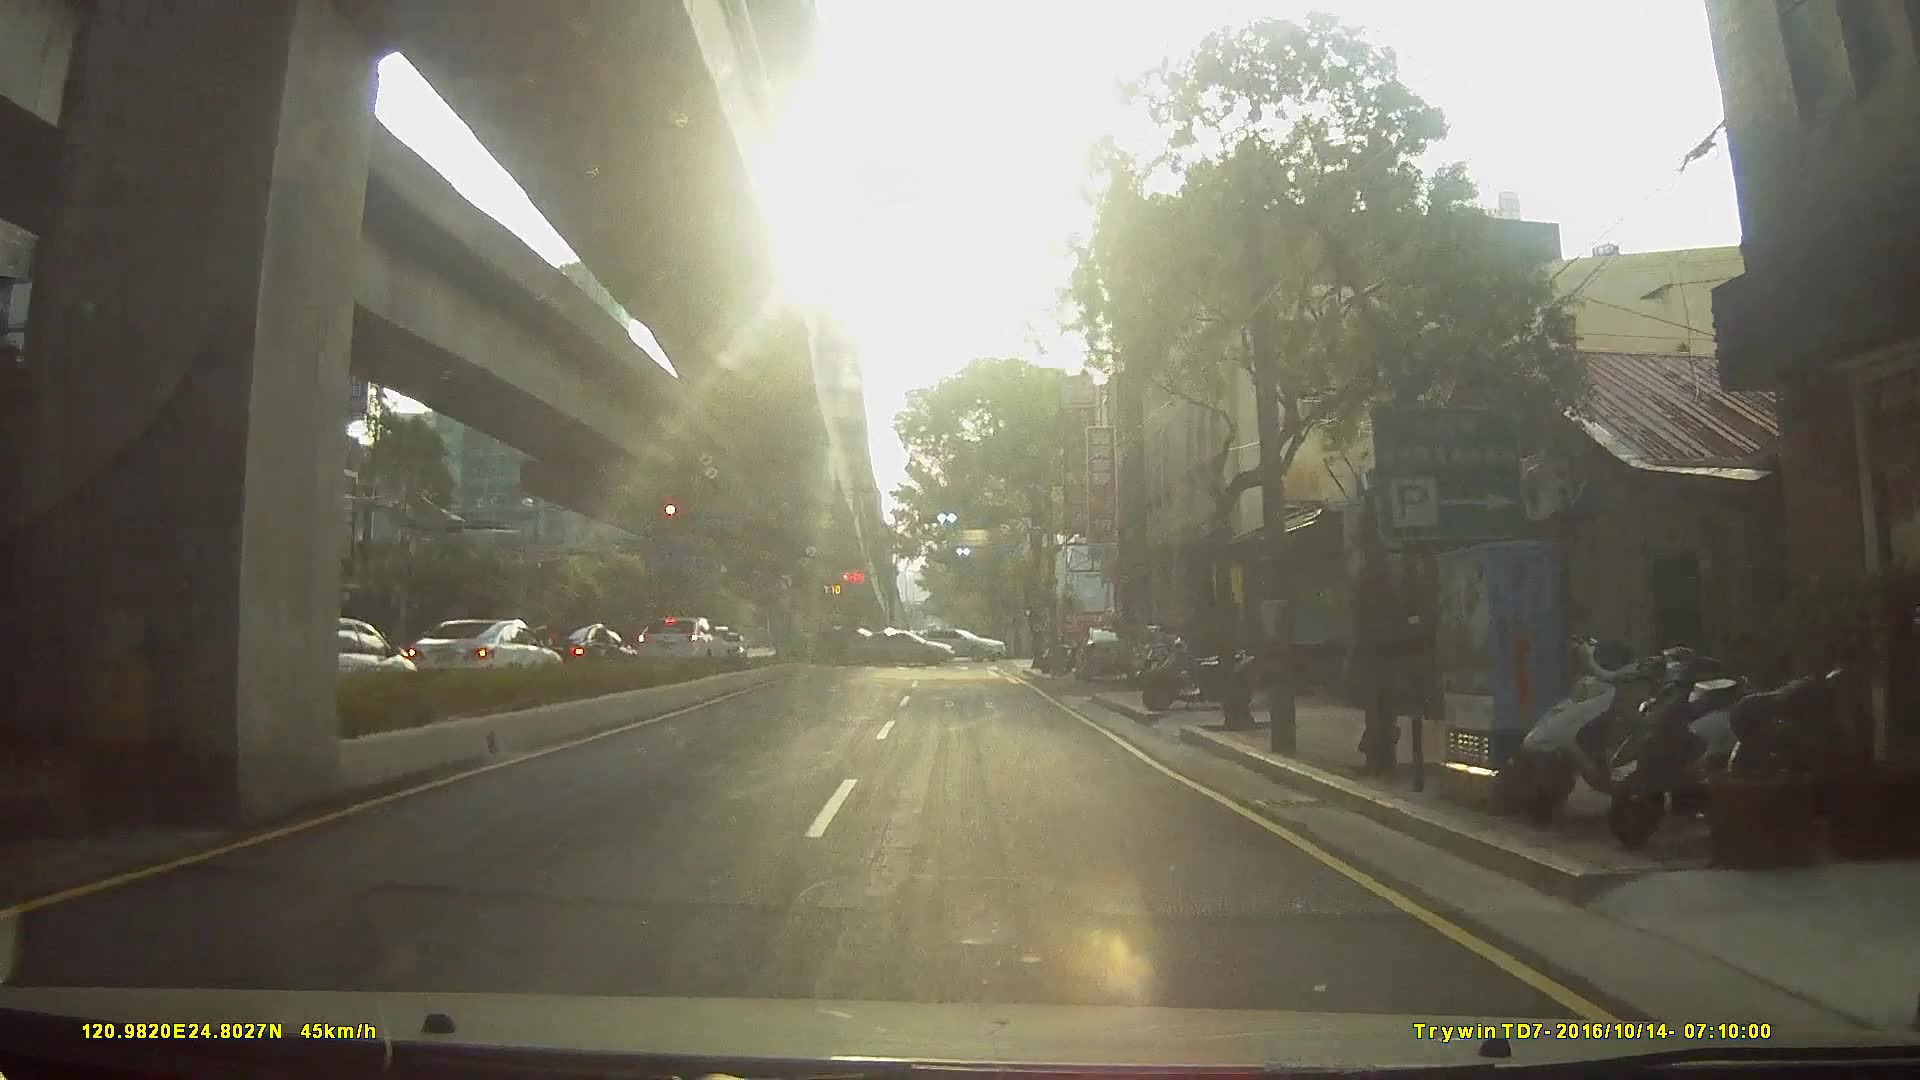vehicle: (232, 615, 410, 700), (396, 617, 556, 692), (516, 620, 636, 679), (628, 616, 732, 671), (1069, 620, 1141, 680), (855, 626, 963, 665), (923, 625, 1013, 662), (814, 626, 893, 667), (709, 629, 745, 662)
